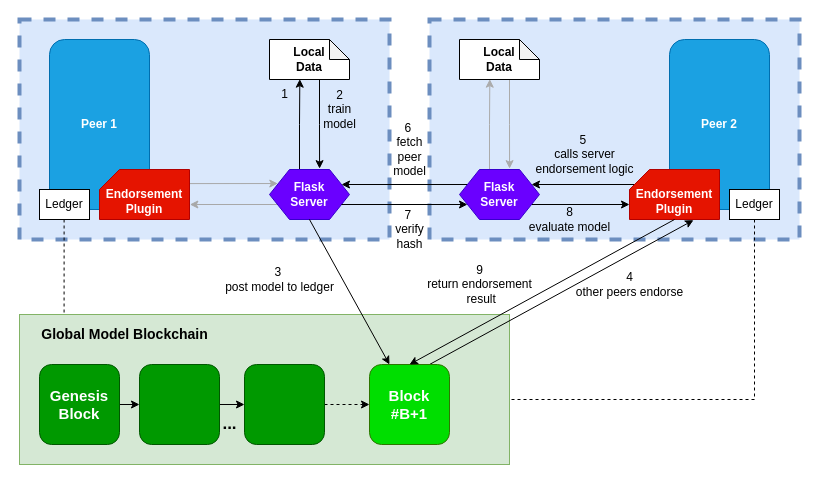
This 818x482 diagram has some shape labels left out. Each missing label, with the centre of its shape:
"Block #1" belongs at point (179, 404).
"Block #B" belongs at point (284, 404).
